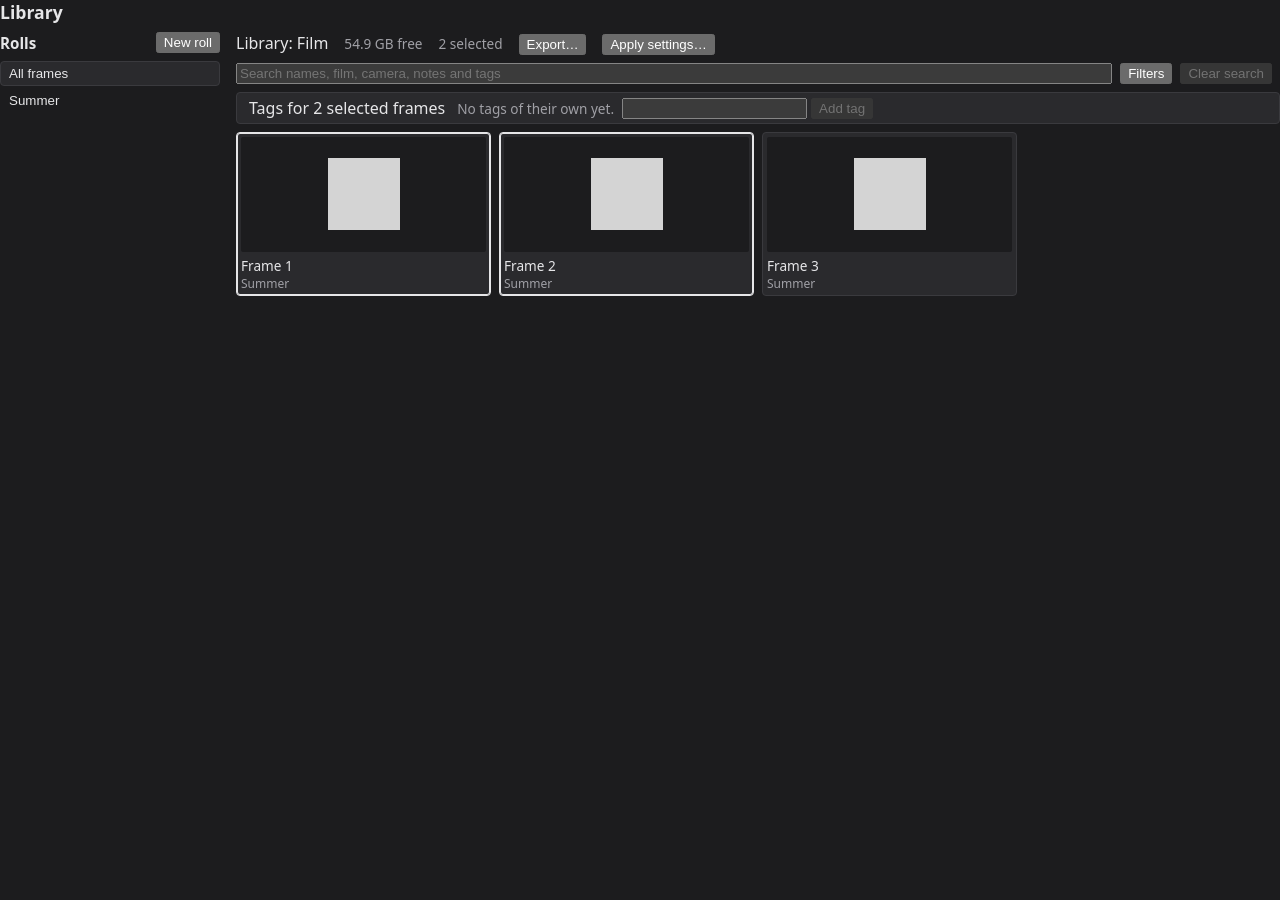
ApplySettingsDialog › the choices › starts with colour and tone ticked and the rest not
The image size is (1280, 900).
Click the button "Apply settings…".
click(659, 44)  # box 602,34 -> 715,55
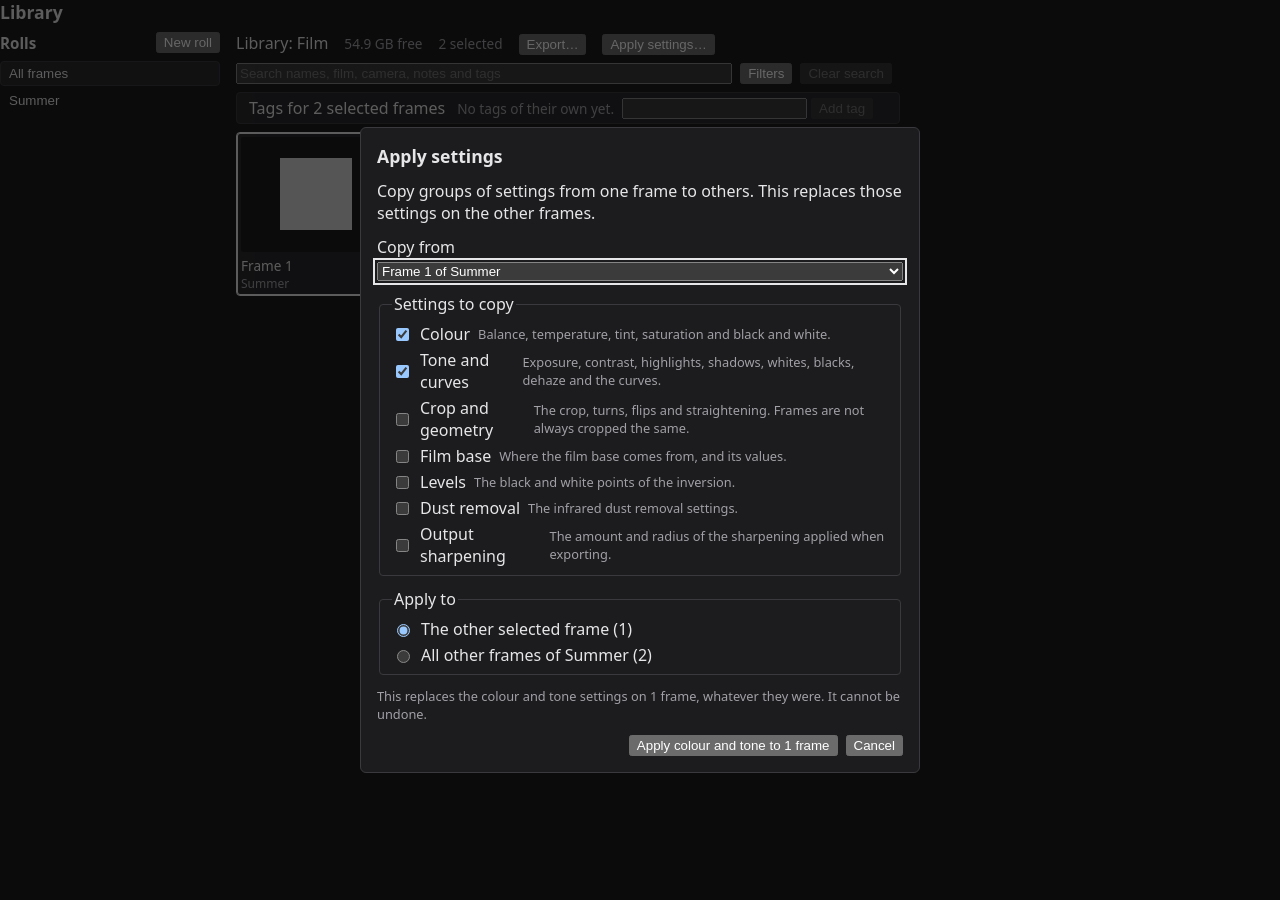
Expected: the dialog "Apply settings" is shown, 360,127 -> 920,773
Expected: the radio button labelled "All other frames of Summer (2)" is shown, 397,650 -> 410,663
Expected: the checkbox labelled "Colour" is checked, 396,328 -> 409,340
